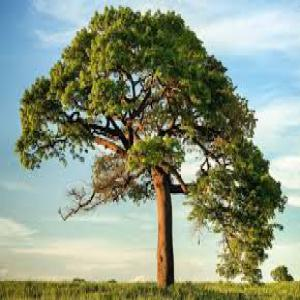Tree: (12, 2, 286, 286)
